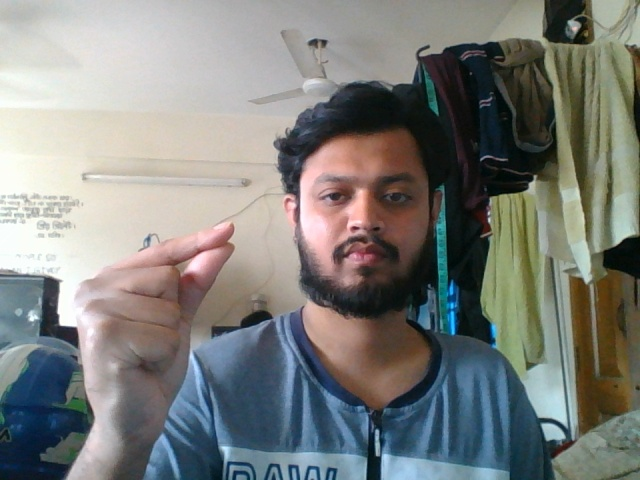onushhar: (69, 217, 247, 425)
